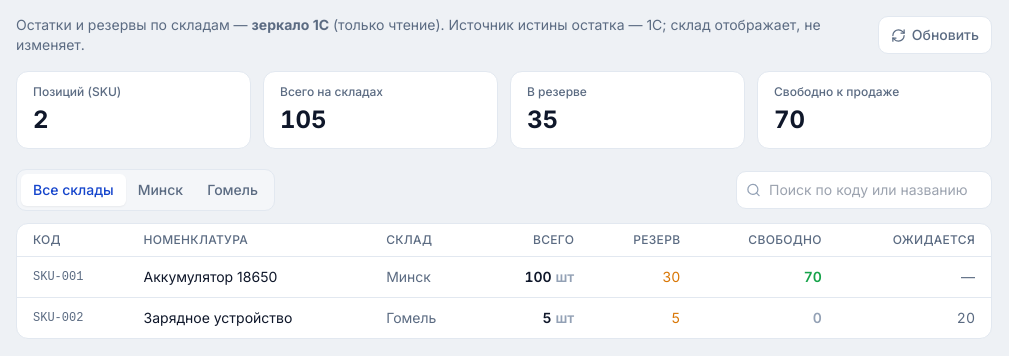
Test: WmsStockTable › по клику «Обновить» перезапрашивает данные и обновляет таблицу
This screenshot has width=1009, height=356.
Click the button "Обновить" at (935, 35), box x1=878 y1=16 x2=992 y2=54
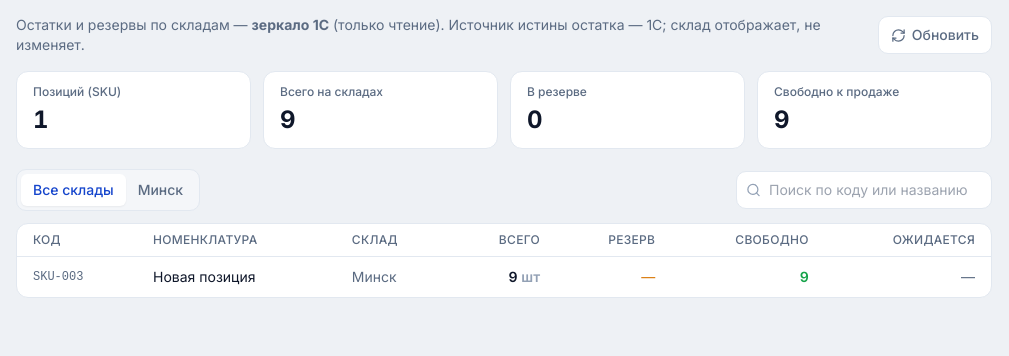
Result: the text "SKU-003" is shown at x1=17 y1=256 x2=137 y2=297
Result: the text "SKU-001" is gone
